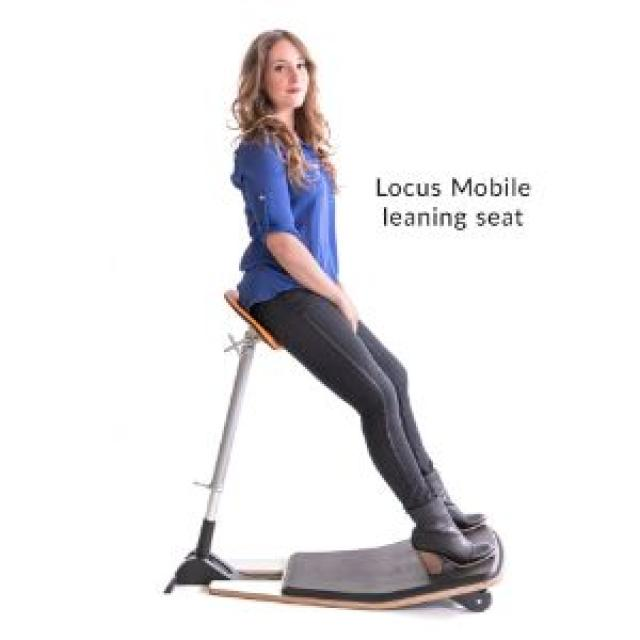adult: (207, 13, 503, 623)
